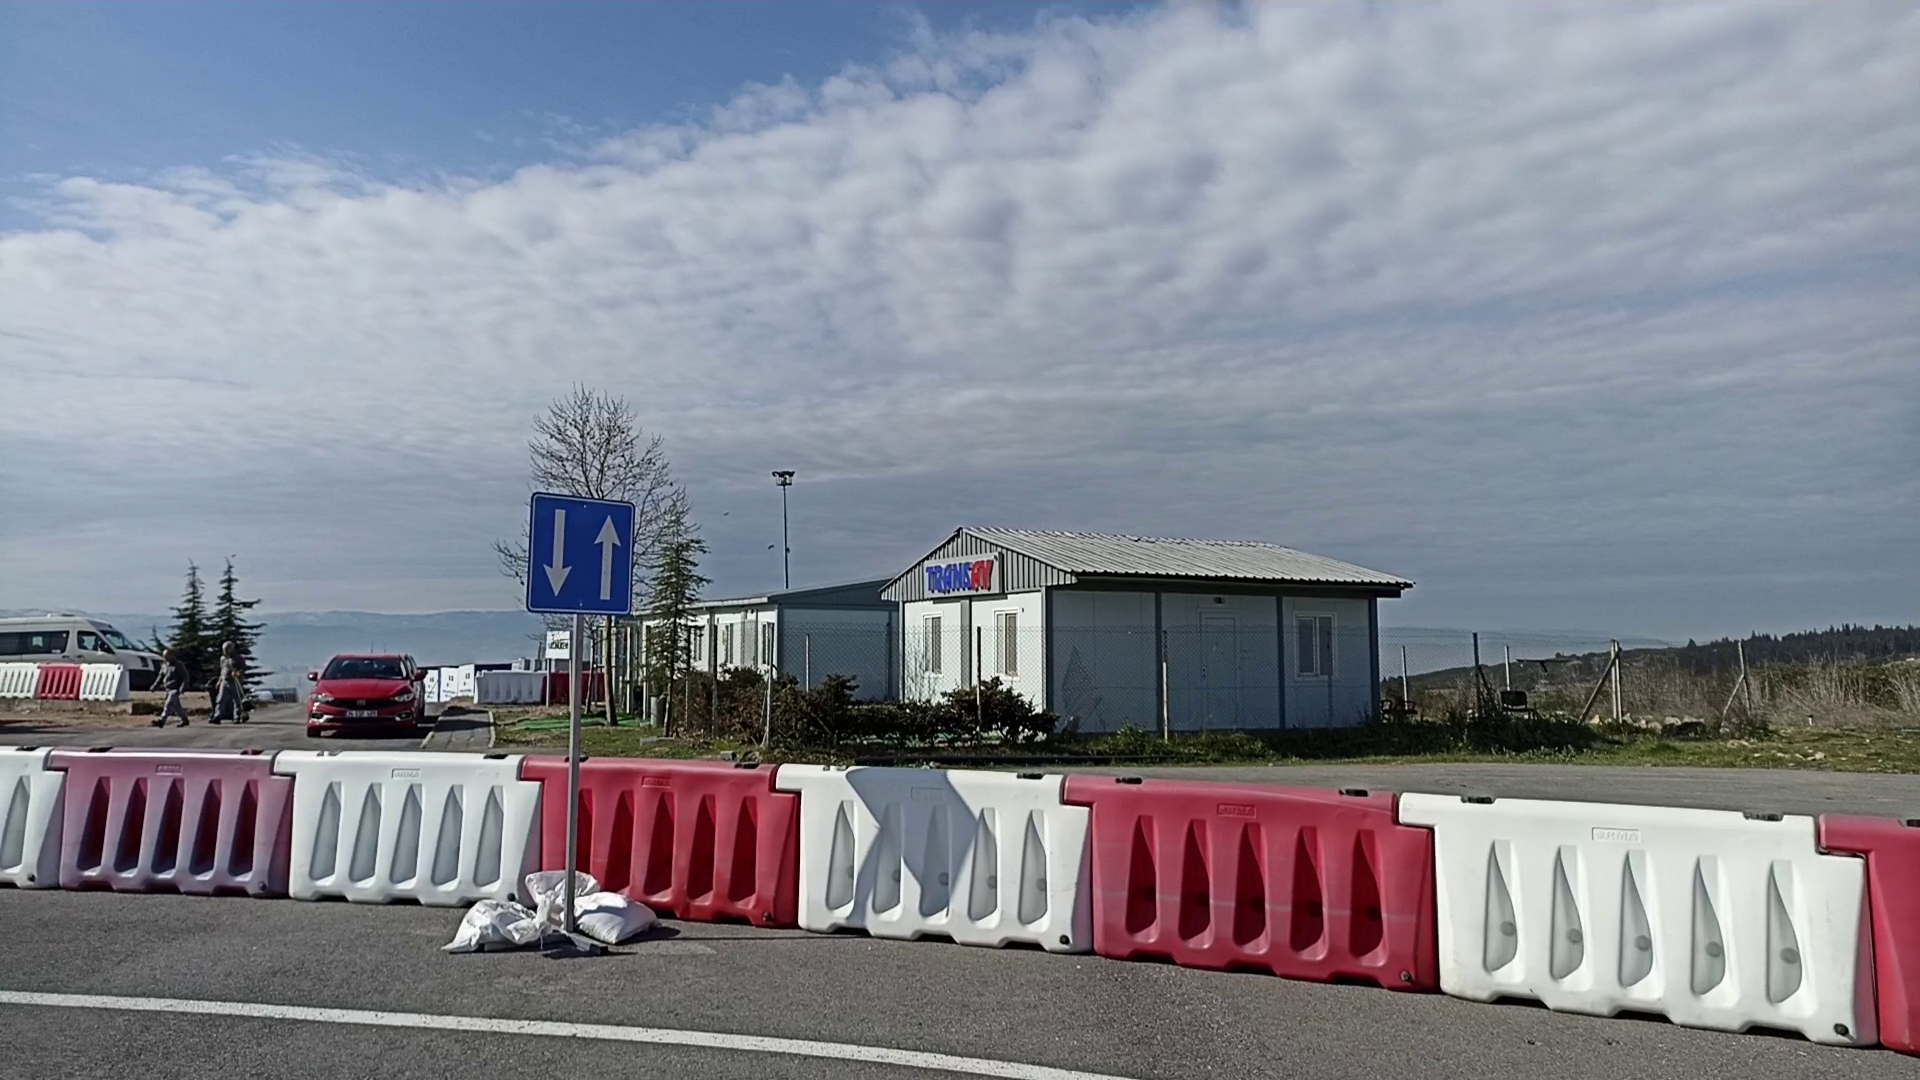oneway: (524, 489, 638, 618)
